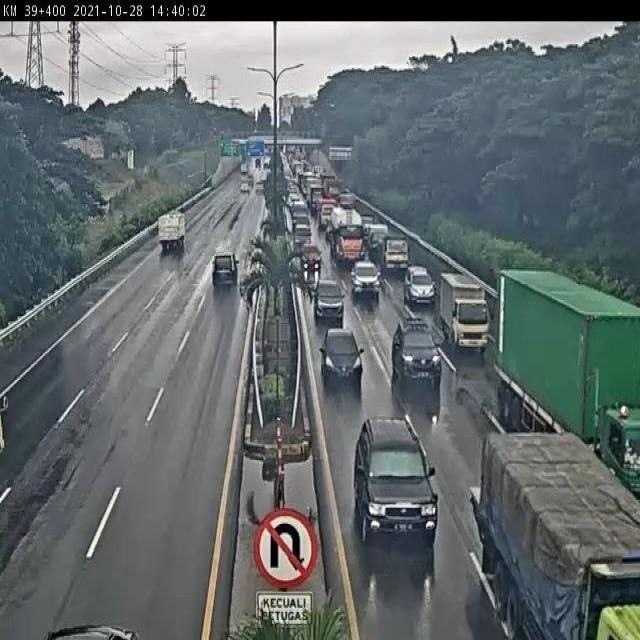big truck: (472, 429, 640, 640), (494, 266, 640, 490), (328, 205, 365, 263)
car: (352, 417, 439, 540), (391, 318, 441, 382), (319, 326, 366, 378), (312, 278, 345, 322), (378, 236, 413, 275), (404, 267, 435, 304), (350, 260, 379, 295), (211, 251, 239, 284), (300, 243, 322, 269)
mid truck: (157, 210, 187, 250)
small truck: (441, 275, 488, 345)
